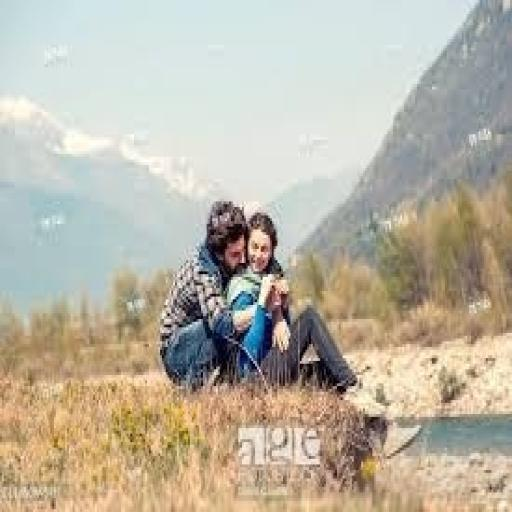hugging: (156, 196, 363, 400)
